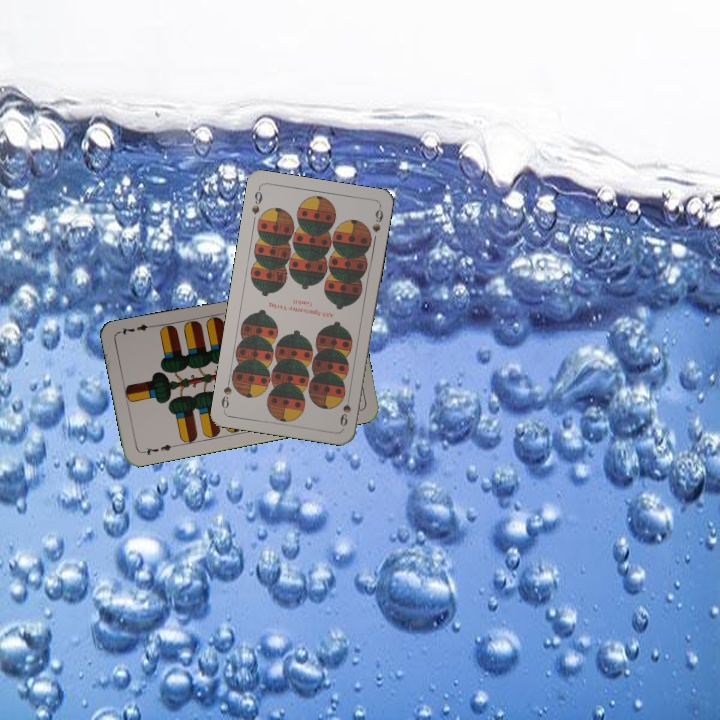E7: (138, 440, 178, 458)
S9: (336, 389, 353, 429), (247, 184, 265, 217)
